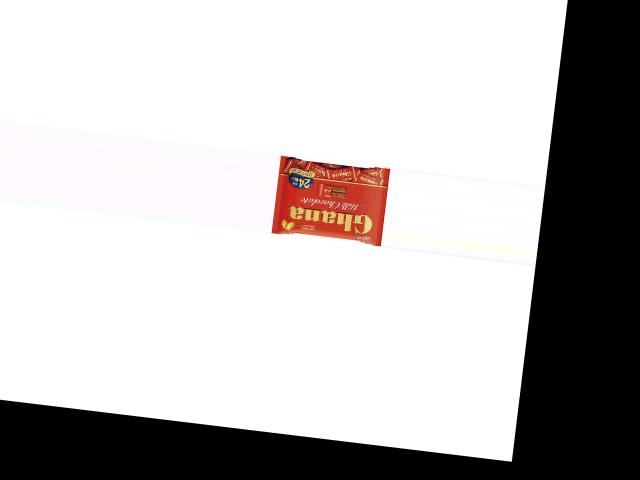chocolate: (270, 152, 388, 244)
